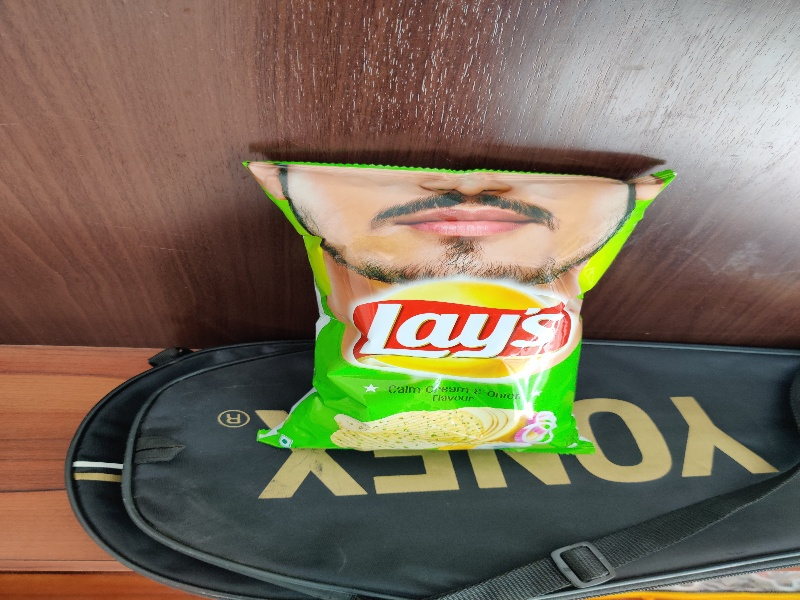lays: (228, 142, 674, 465)
